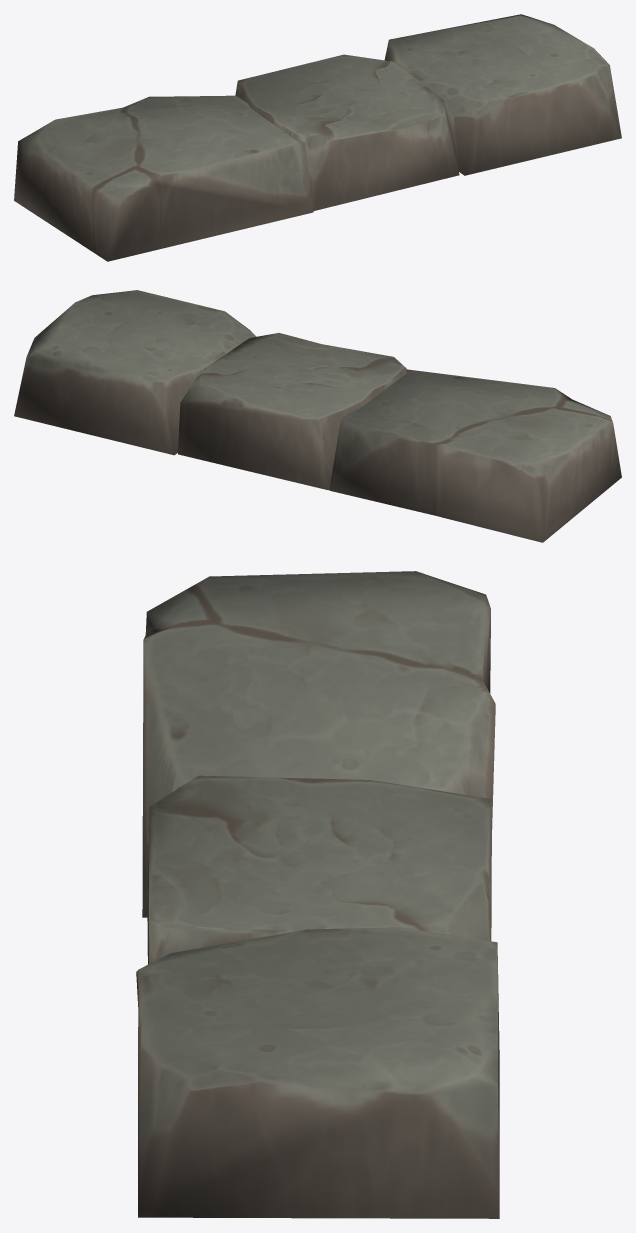
Rendered from SM_FW01_Ruins_Int_Floor_Trim_2m_01.fbx.
3 views of the same model, one above another, from view 1: azimuth 30°, elevation 25°; view 2: azimuth 150°, elevation 25°; view 3: azimuth 270°, elevation 25° (orthographic). The views are drawn at different scales.
Visible parts, largest first — view 1: SM_FW01_Ruins_Int_Floor_Trim_2m_01_LOD0; view 2: SM_FW01_Ruins_Int_Floor_Trim_2m_01_LOD0; view 3: SM_FW01_Ruins_Int_Floor_Trim_2m_01_LOD0.
Part boxes in pixels (x1,y1,x2,y2): SM_FW01_Ruins_Int_Floor_Trim_2m_01_LOD0: (14,14,621,261); SM_FW01_Ruins_Int_Floor_Trim_2m_01_LOD0: (14,290,621,542); SM_FW01_Ruins_Int_Floor_Trim_2m_01_LOD0: (136,571,499,1218).
Size of what is drawn, in the model's own units: 2.01 by 0.2781 by 0.605.
